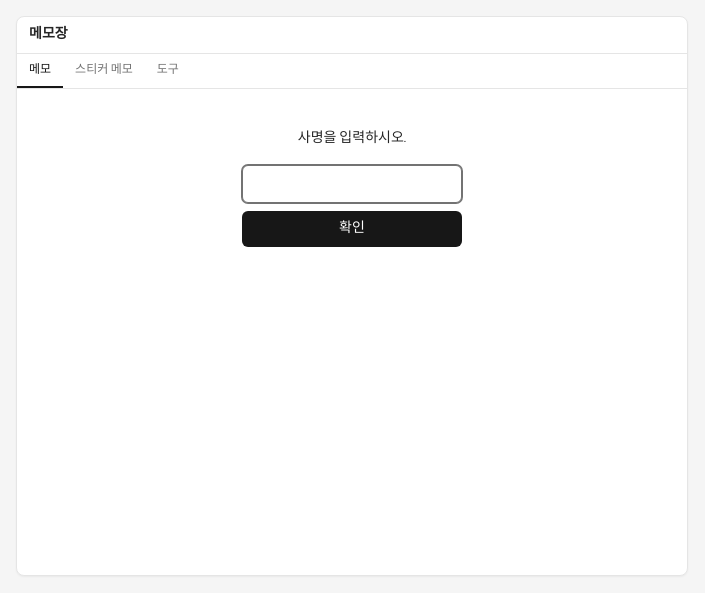
Scenario: App navigation › navigates to 스티커 메모 and shows the empty state once a player exists
The image size is (705, 593).
Click the button "스티커 메모": (104, 71) [63,54,145,88]
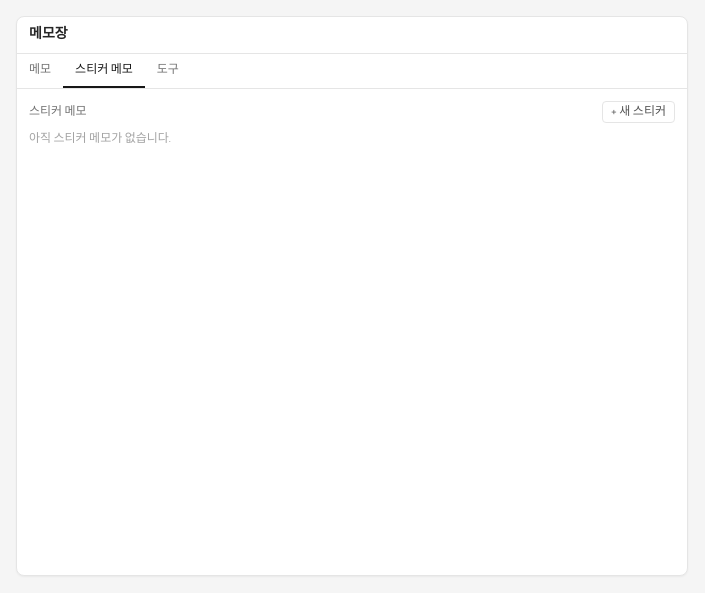
Result: the text "아직 스티커 메모가 없습니다." is shown at [29,133,171,145]
